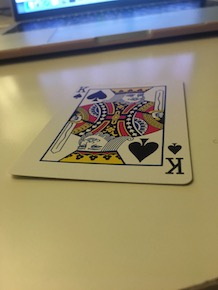KingOfSpades: (9, 81, 199, 191)
